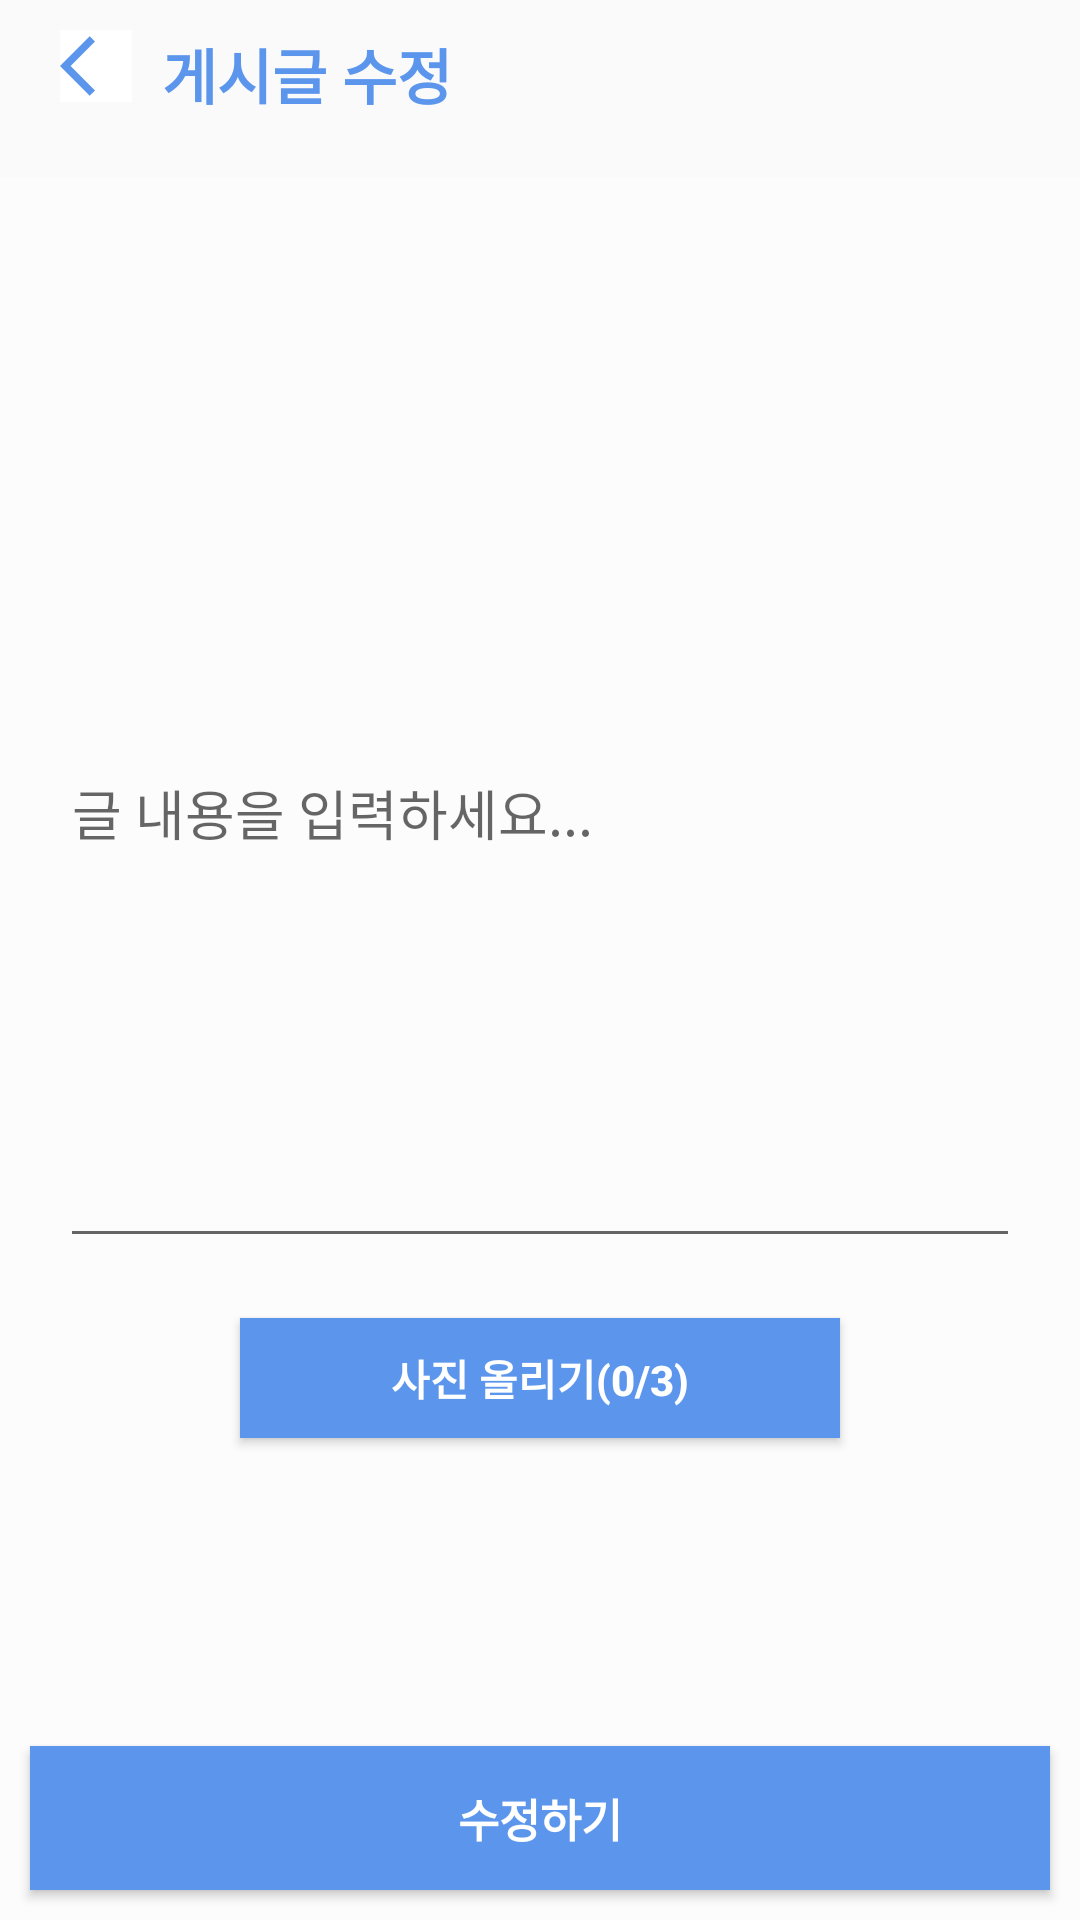

Locate icon controls on the screen. Image size 1080px x 1920px, boxes as (x1, y1, x2, y2).
arrow back: (60, 36, 95, 96)
